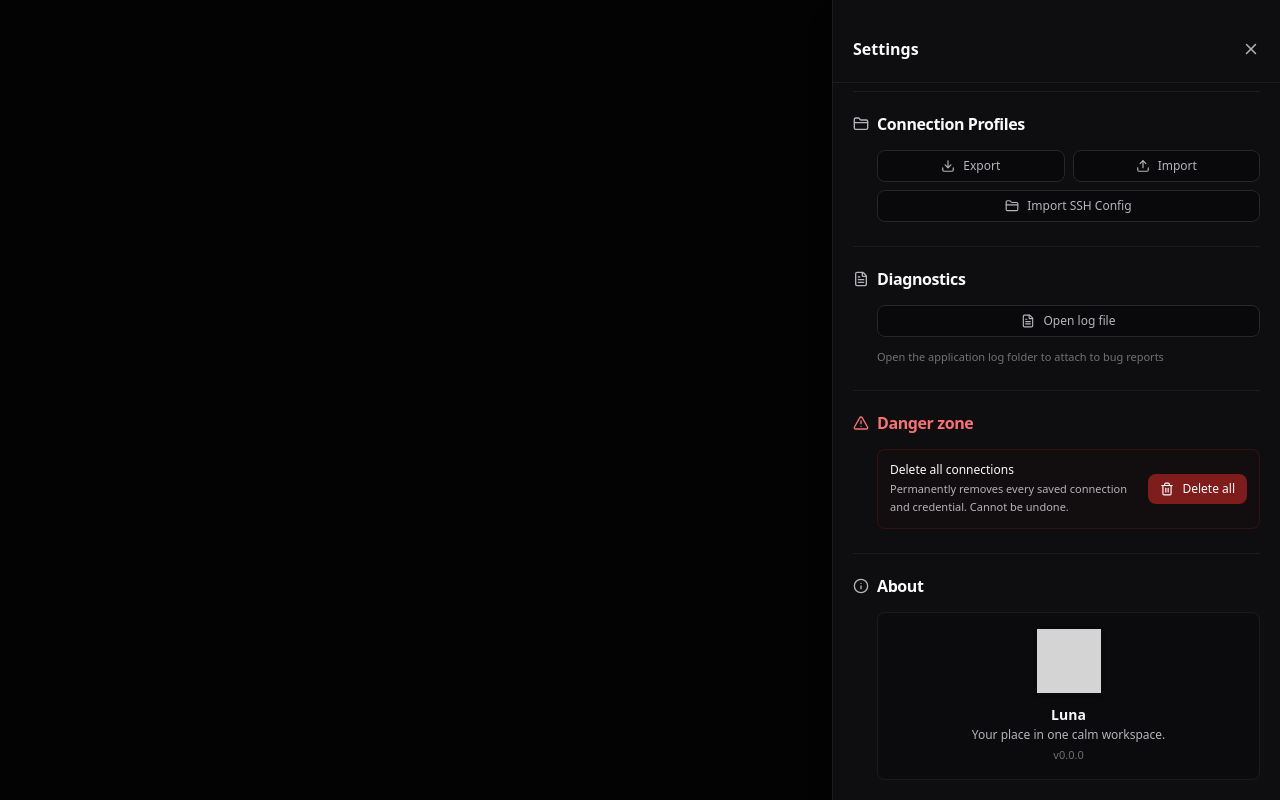
SettingsPanel — destructive actions › requires confirmation before deleting all connections
The image size is (1280, 800).
(page scrolled)
Click the button "Delete all" at (1198, 489), box [1148,474,1247,504]
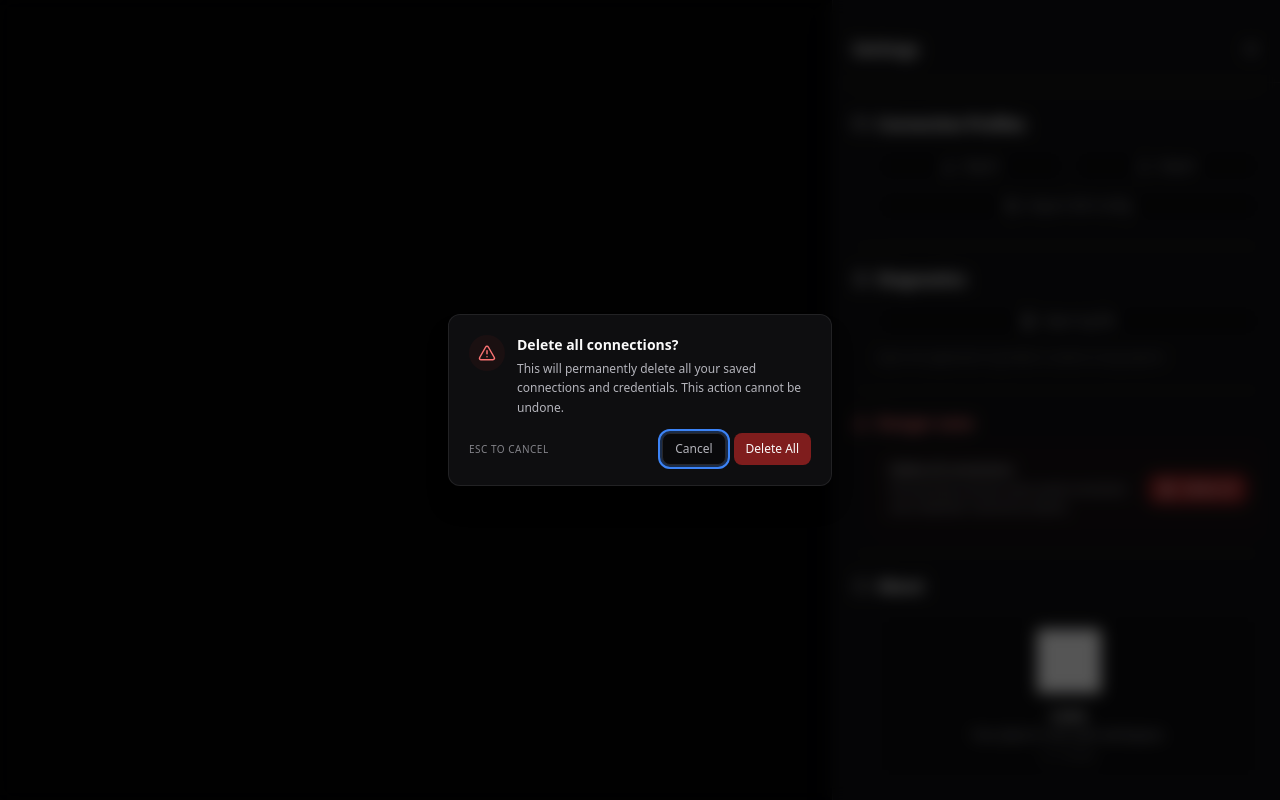
expect the button "Delete All" is shown: met, box [734,433,811,465]
